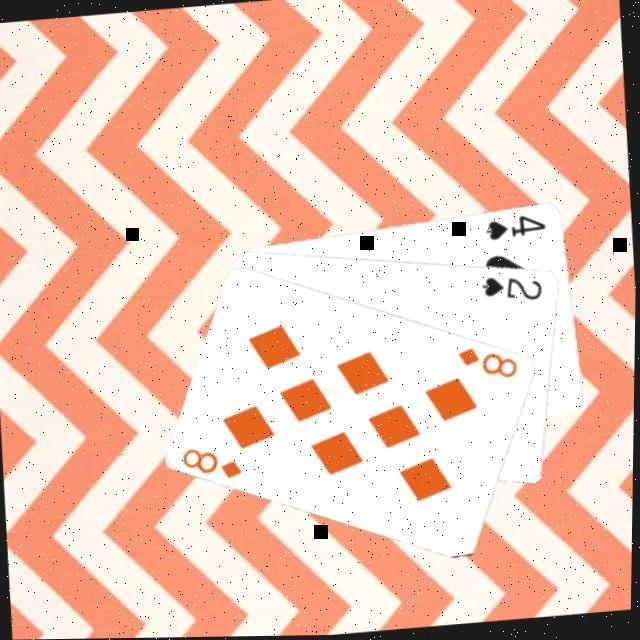2S: (481, 267, 548, 307)
4S: (484, 208, 552, 243)
8D: (455, 338, 525, 384), (180, 438, 250, 484)
